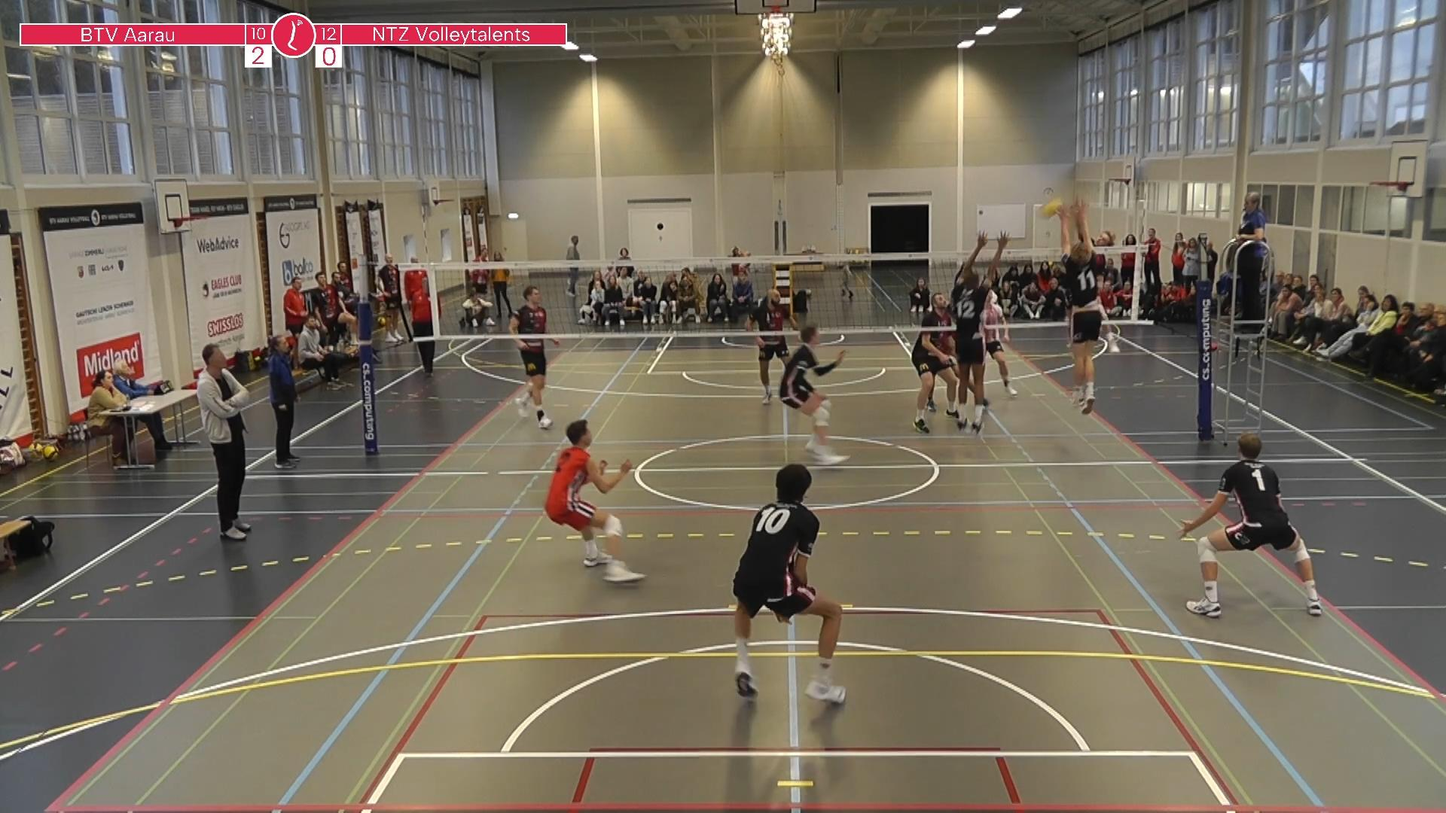Attack: (1081, 215, 1131, 380)
Block: (946, 230, 1013, 432), (1051, 193, 1107, 418)
Player: (734, 464, 844, 703), (1181, 434, 1322, 617), (545, 419, 644, 583), (779, 325, 847, 465), (911, 293, 958, 433), (510, 285, 551, 429), (747, 289, 789, 403), (984, 288, 1017, 397), (919, 287, 931, 312)
ball: (1037, 193, 1061, 223)
